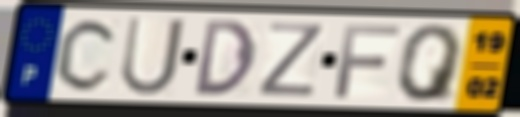C: (52, 16, 122, 94)
D: (193, 17, 259, 98)
F: (331, 22, 404, 101)
Q: (395, 22, 467, 105)
U: (117, 13, 189, 98)
Z: (254, 20, 328, 99)
